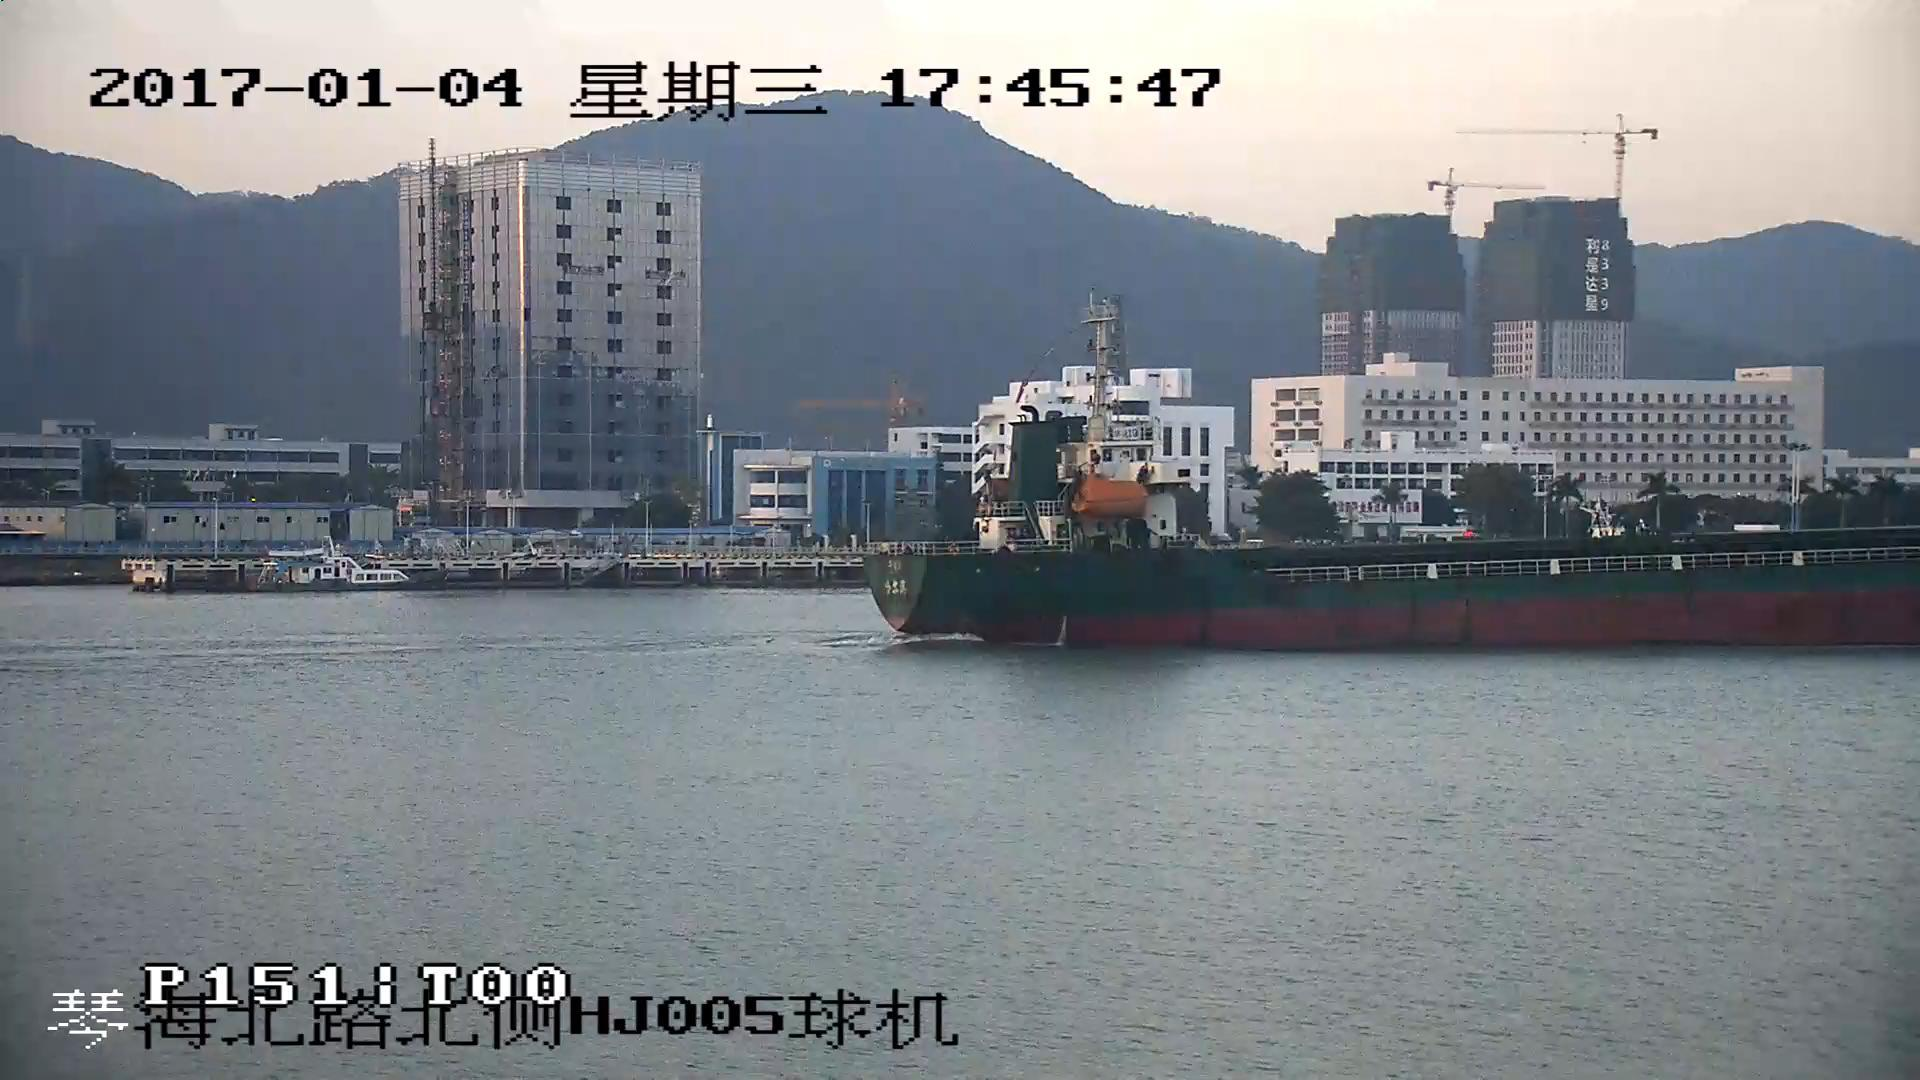Ship: (864, 301, 1920, 655)
